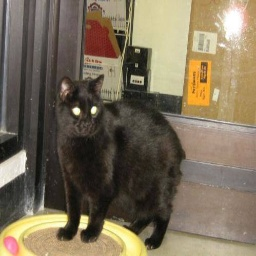cat: (55, 74, 182, 249)
